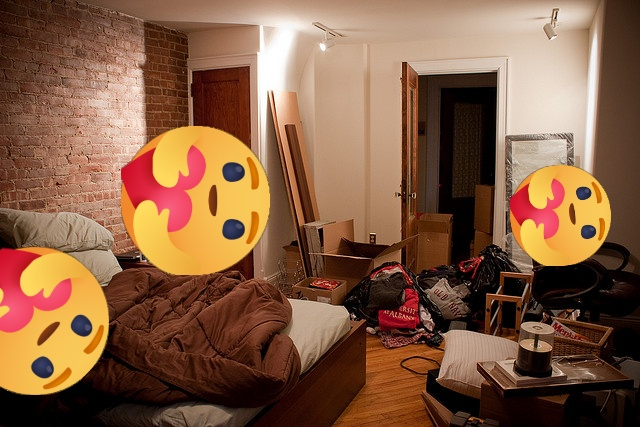care: (121, 126, 270, 275), (0, 247, 109, 395), (510, 165, 611, 266)
